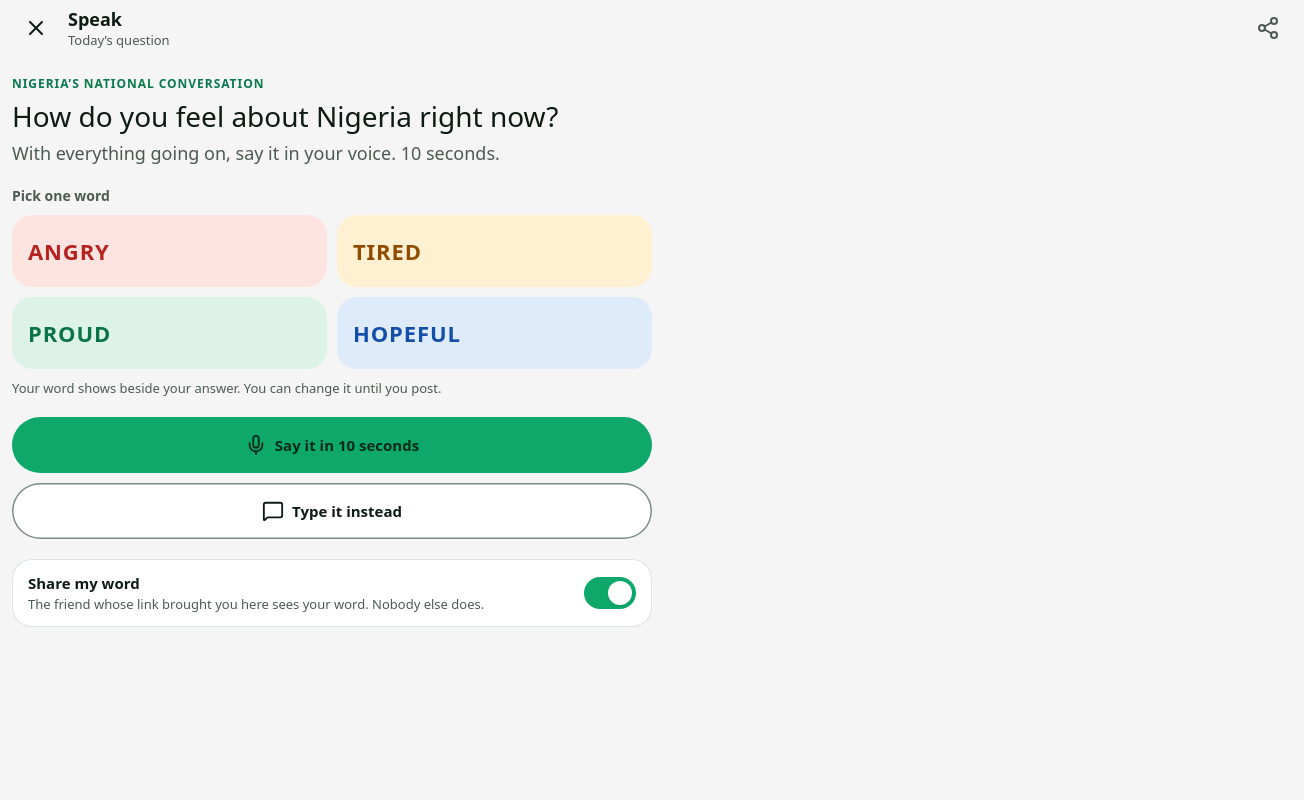
Test: the pick screen (LCH-02) › shows the four words, none pressed, and asks for one before going on
This screenshot has width=1304, height=800.
Expected: the heading "How do you feel about Nigeria right now?" is shown, [12,100,652,132]
Click the button "Say it in 10 seconds".
click(332, 445)  # box [12,417,652,473]
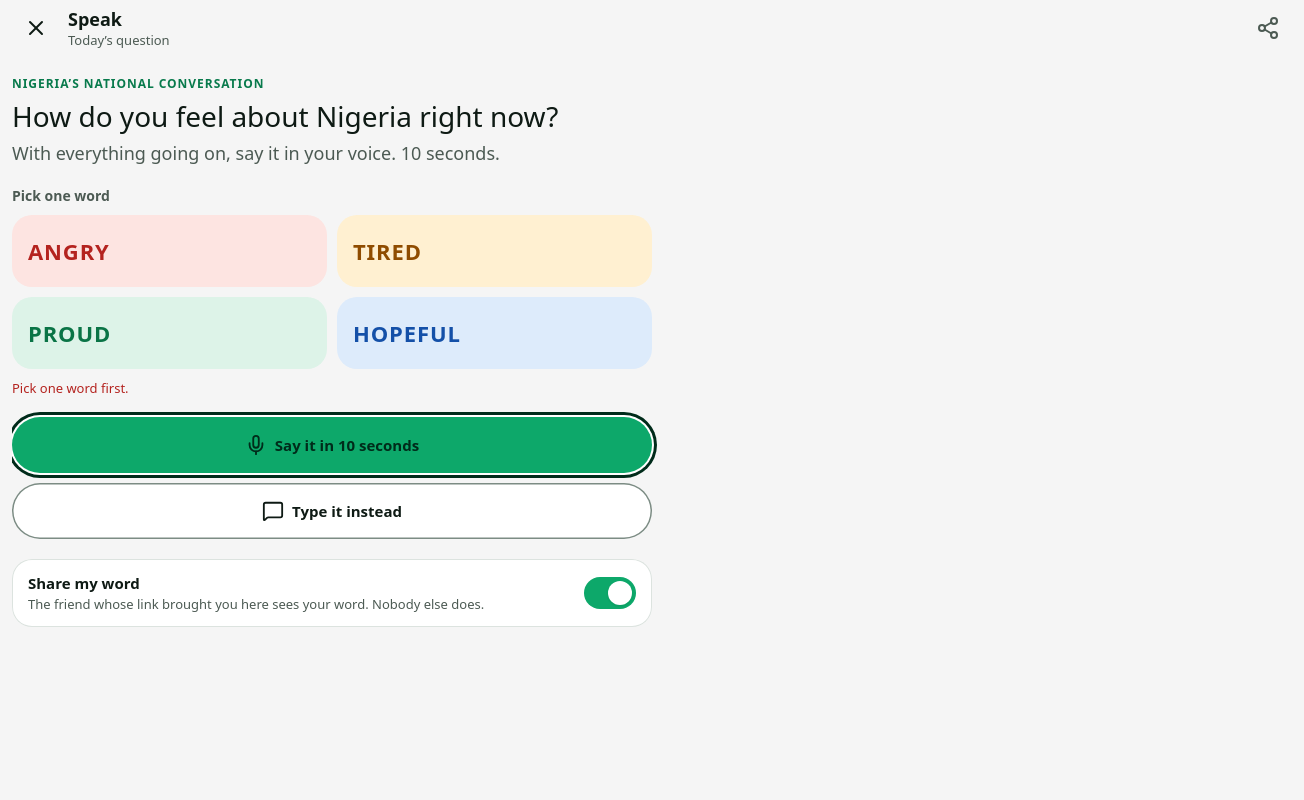
Expected: the message reads "Pick one word first.", [12,379,129,397]
